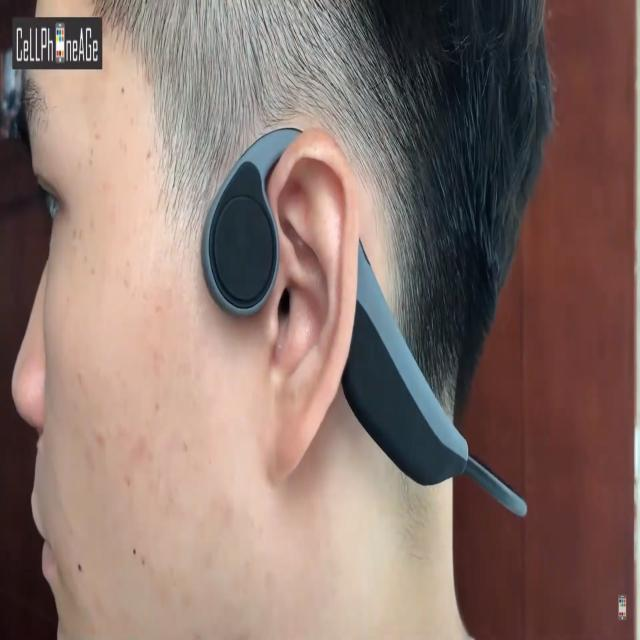Neckband: (200, 127, 527, 518)
